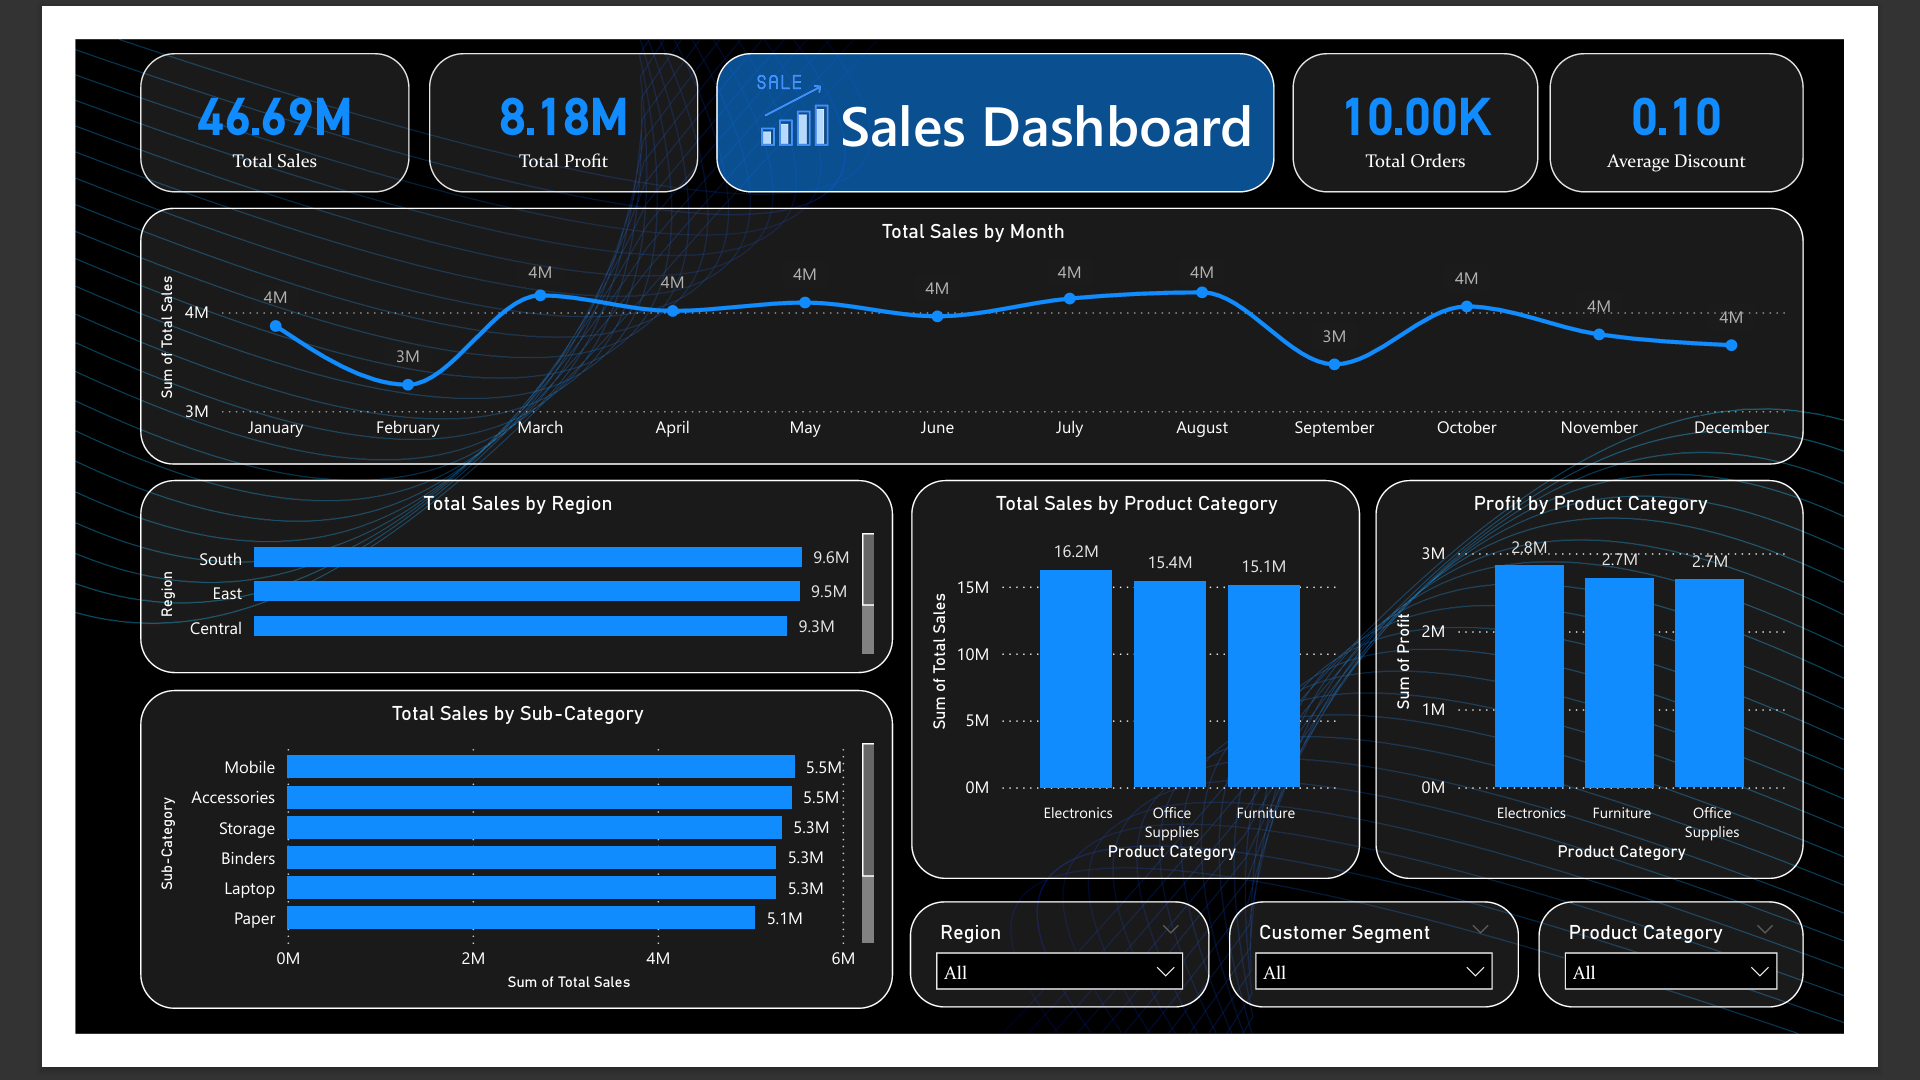

Layout of this report page (visuals, bound fields, positions):
{"tool":"powerbi","page":{"name":"Sales Dashboard","canvas":[1280,720],"ordinal":0},"visuals":[{"type":"shape","box":[464.4,10,403.3,101.1],"z":0},{"type":"card","fields":{"Values":["Sum(sales_performance_10000.Sales)"]},"box":[46.7,9.6,195.1,101.7],"z":1000},{"type":"card","fields":{"Values":["Sum(sales_performance_10000.Profit)"]},"box":[255.5,9.6,195.1,101.7],"z":2000},{"type":"card","fields":{"Values":["CountNonNull(sales_performance_10000.Order ID)"]},"box":[880.5,9.6,178.6,101.7],"z":3000},{"type":"card","fields":{"Values":["Avg(sales_performance_10000.Discount)"]},"box":[1067.4,9.6,184.1,101.7],"z":4000},{"type":"clusteredBarChart","title":"Total Sales by Region","fields":{"Category":["sales_performance_10000.Region"],"Y":["Sum(sales_performance_10000.Sales)"]},"box":[46.7,318.7,545.4,140.1],"z":5000},{"type":"clusteredColumnChart","title":"Total Sales by Product Category","fields":{"Category":["sales_performance_10000.Product Category"],"Y":["Sum(sales_performance_10000.Sales)"]},"box":[604.7,318.6,325.6,289.5],"z":6000},{"type":"lineChart","title":"Total Sales by Month","fields":{"Category":["sales_performance_10000.Order Date.Variation.Date Hierarchy.Year","sales_performance_10000.Order Date.Variation.Date Hierarchy.Quarter","sales_performance_10000.Order Date.Variation.Date Hierarchy.Month","sales_performance_10000.Order Date.Variation.Date Hierarchy.Day"],"Y":["Sum(sales_performance_10000.Sales)"]},"box":[46.7,122.3,1204.7,185.4],"z":7000},{"type":"slicer","fields":{"Values":["sales_performance_10000.Region"]},"box":[604.4,623.7,217,76.9],"z":8000},{"type":"slicer","fields":{"Values":["sales_performance_10000.Product Category"]},"box":[1059.1,623.7,192.3,76.9],"z":9000},{"type":"slicer","fields":{"Values":["sales_performance_10000.Customer Segment"]},"box":[835.2,623.7,210.2,76.9],"z":10000},{"type":"barChart","title":"Total Sales by Sub-Category","fields":{"Category":["sales_performance_10000.Sub-Category"],"Y":["Sum(sales_performance_10000.Total Sales)"]},"box":[46.7,471.2,545.4,230.8],"z":11000},{"type":"columnChart","title":"Profit by Product Category","fields":{"Category":["sales_performance_10000.Product Category"],"Y":["Sum(sales_performance_10000.Profit)"]},"box":[940.7,318.6,310.5,289.5],"z":12000},{"type":"image","box":[487.8,10,63.3,83.3],"z":24000}]}

Visuals, with their boxes in screenshot pixels (x1, y1, x2, y2), scaled from the page's 1280x720 canvas onto the 1920x1080 screenshot:
shape: locate(697, 15, 1302, 167)
card - Sum(sales_performance_10000.Sales): locate(70, 14, 363, 167)
card - Sum(sales_performance_10000.Profit): locate(383, 14, 676, 167)
card - CountNonNull(sales_performance_10000.Order ID): locate(1321, 14, 1589, 167)
card - Avg(sales_performance_10000.Discount): locate(1601, 14, 1877, 167)
"Total Sales by Region" clusteredBarChart: locate(70, 478, 888, 688)
"Total Sales by Product Category" clusteredColumnChart: locate(907, 478, 1395, 912)
"Total Sales by Month" lineChart: locate(70, 183, 1877, 462)
slicer - sales_performance_10000.Region: locate(907, 936, 1232, 1051)
slicer - sales_performance_10000.Product Category: locate(1589, 936, 1877, 1051)
slicer - sales_performance_10000.Customer Segment: locate(1253, 936, 1568, 1051)
"Total Sales by Sub-Category" barChart: locate(70, 707, 888, 1053)
"Profit by Product Category" columnChart: locate(1411, 478, 1877, 912)
image: locate(732, 15, 827, 140)
